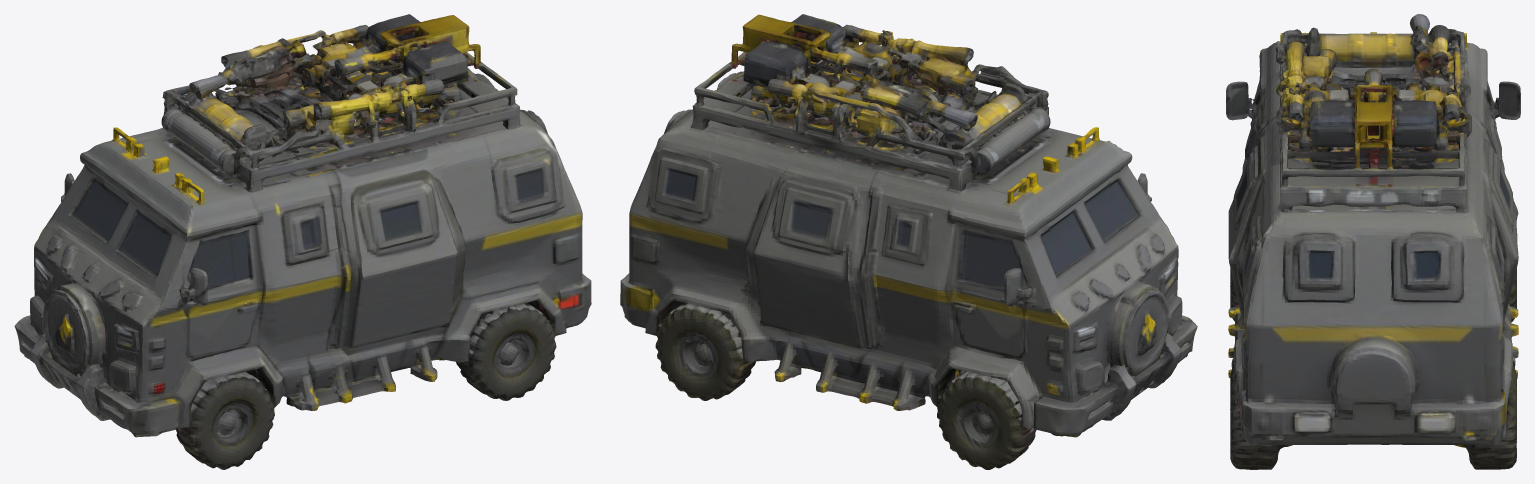
Rendered from Bank_Heist_Escape_1016060205_texture.glb.
3 renders of one model, left to right at view 1: azimuth 30°, elevation 25°; view 2: azimuth 150°, elevation 25°; view 3: azimuth 270°, elevation 25°, orthographic. The views are drawn at different scales.
Visible parts, largest first — view 1: output; view 2: output; view 3: output.
Boxes of the visible parts, x1=… form: output: x1=14, y1=14, x2=591, y2=469; output: x1=620, y1=14, x2=1197, y2=469; output: x1=1226, y1=14, x2=1520, y2=469.
Bounding box in the file's own units: 1.91 × 1.23 × 0.9401.
1 material, 1 textured.
